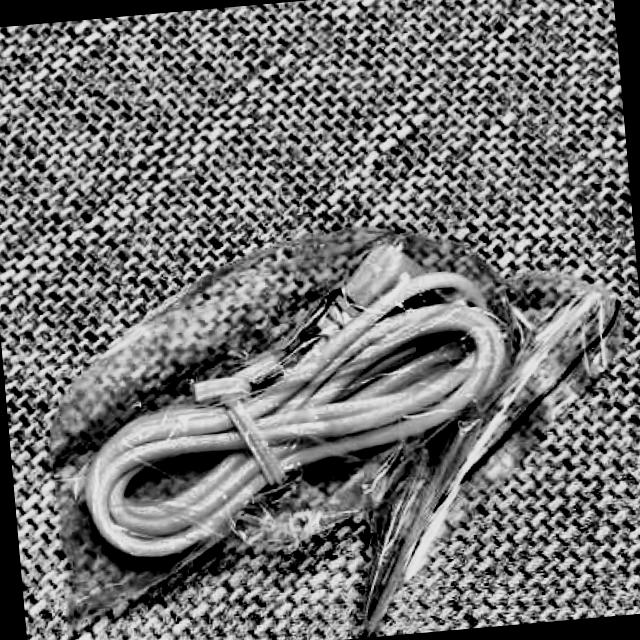Cable: (61, 225, 521, 566)
